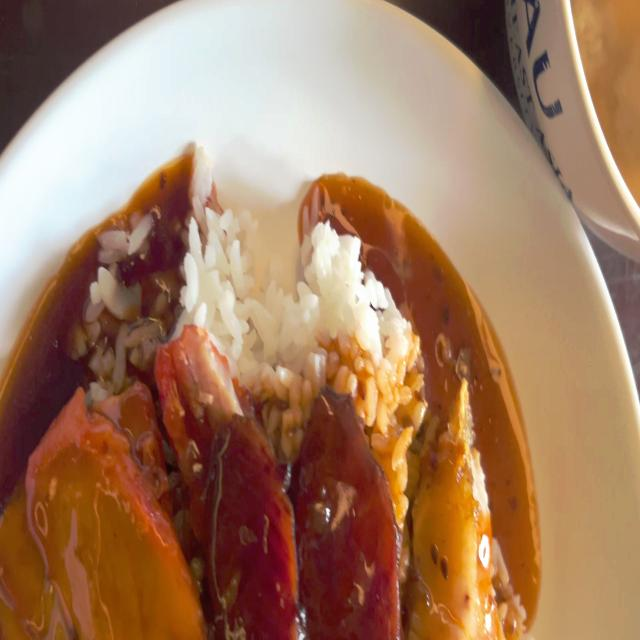chainese_sausage: (213, 390, 402, 640), (208, 404, 296, 640), (304, 393, 388, 634)
crispy_pork: (422, 368, 491, 640)
red_pork: (2, 387, 201, 640), (21, 391, 185, 640), (162, 326, 236, 466)
red_pork_and_crispy_pork: (0, 174, 521, 640)
rice: (90, 197, 415, 375)
